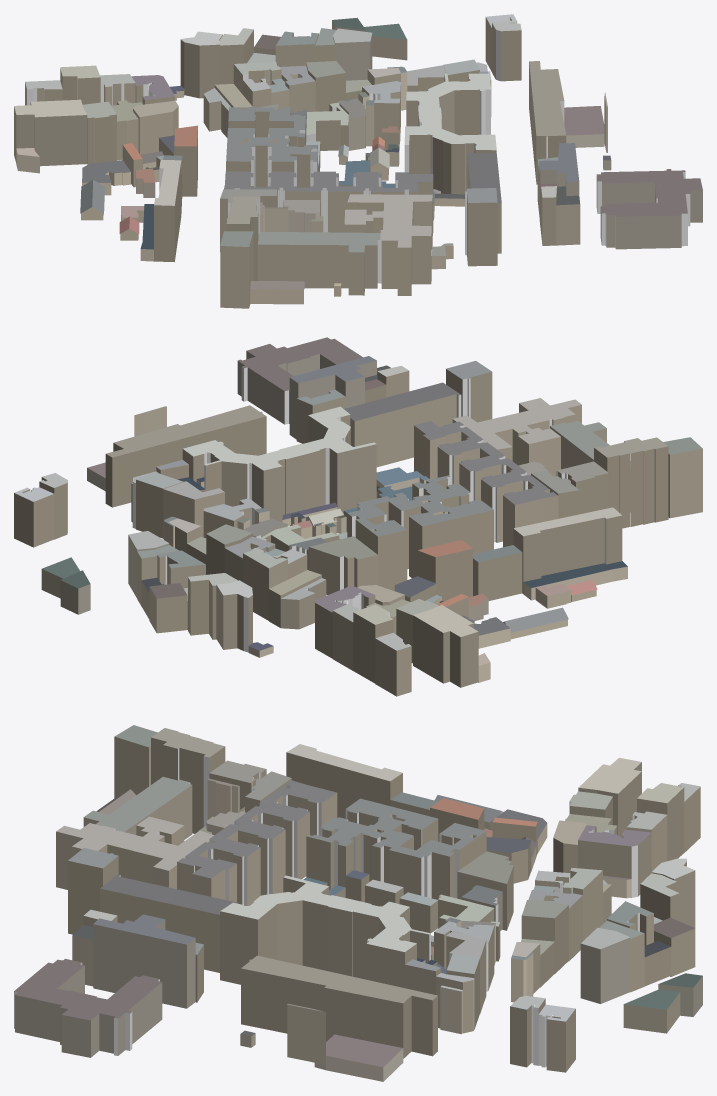
The picture shows the model from 3 angles, top to bottom: view 1: azimuth 30°, elevation 25°; view 2: azimuth 150°, elevation 25°; view 3: azimuth 270°, elevation 25°; orthographic projection. The views are drawn at different scales.
Visible parts, largest first — view 1: tuile; view 2: tuile; view 3: tuile.
Part boxes in pixels (left/top/right/bottom): tuile: left=14, top=14, right=702, bottom=308; tuile: left=14, top=337, right=702, bottom=696; tuile: left=14, top=725, right=702, bottom=1081.
Size of the model in its own units: 269 by 42.8 by 282.
